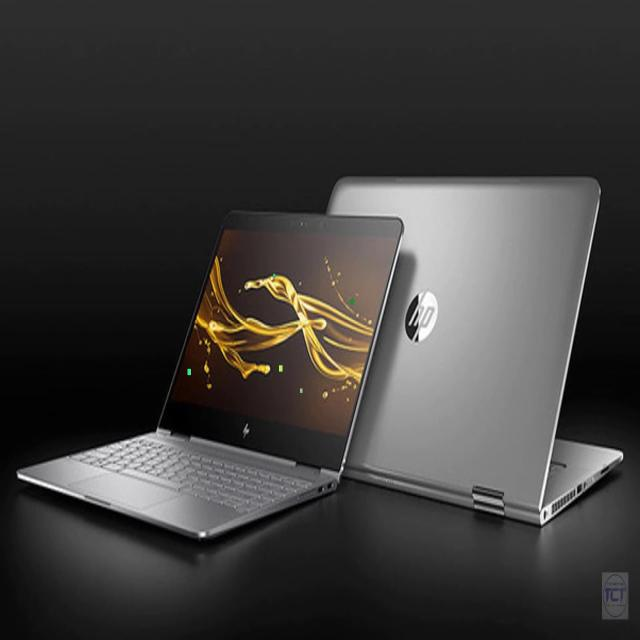dead_pixel: (350, 299, 354, 304), (279, 365, 282, 371), (188, 369, 190, 374), (300, 388, 302, 392), (273, 274, 275, 277), (271, 277, 272, 279)
